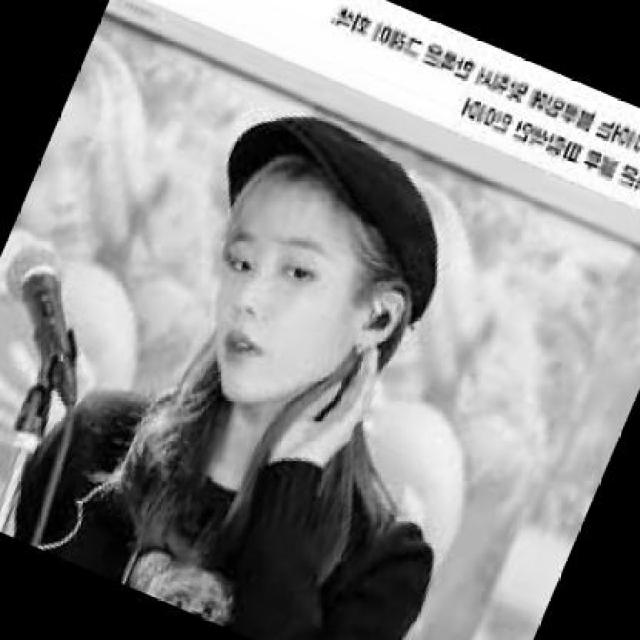earphone: (366, 297, 398, 365)
